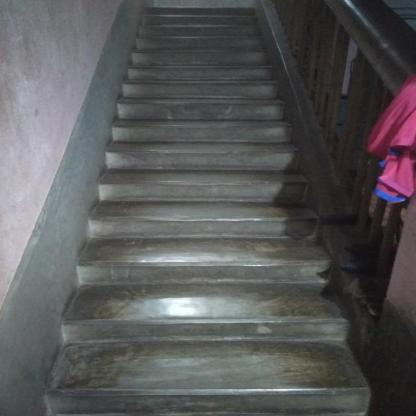stair: (84, 0, 326, 416)
